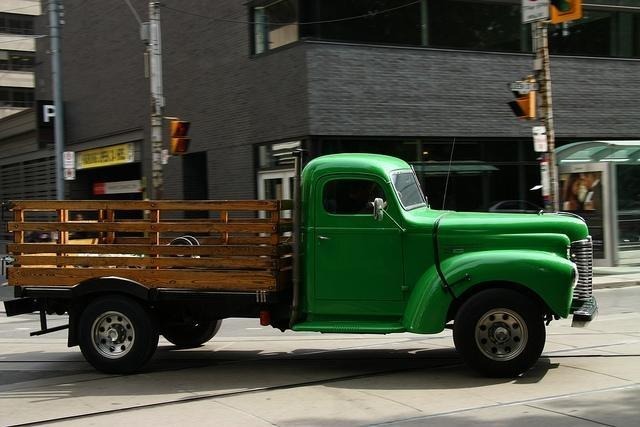truck: (5, 147, 597, 374)
